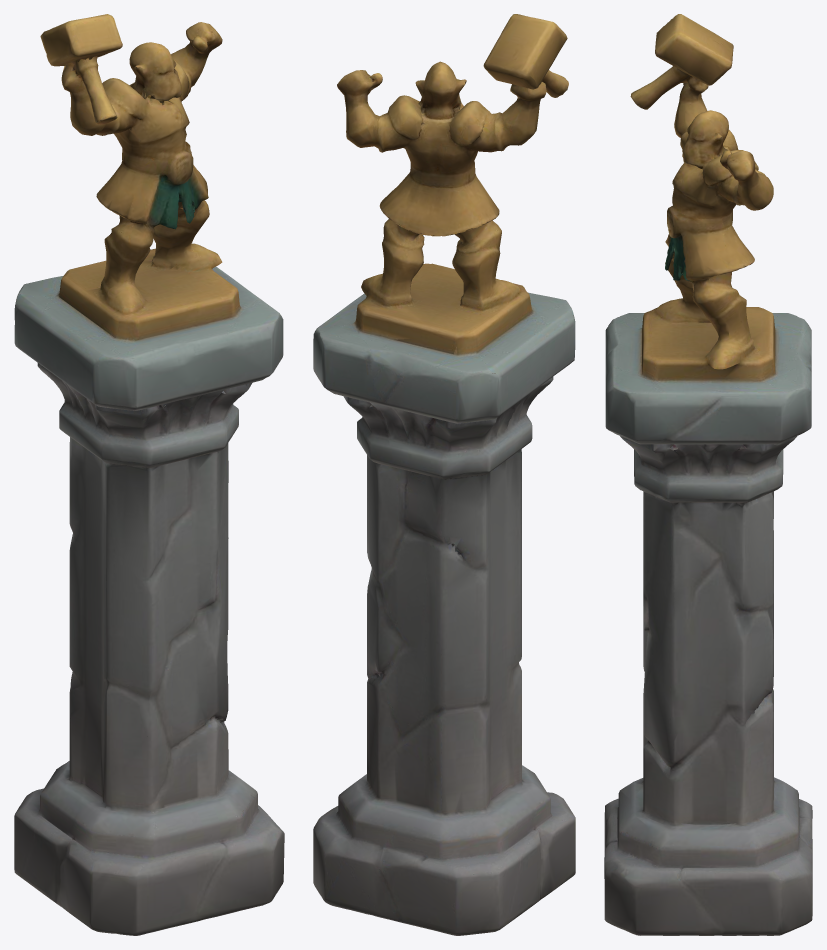
The model's file is artisansColumn.glb.
3 renders of one model, left to right at view 1: azimuth 30°, elevation 25°; view 2: azimuth 150°, elevation 25°; view 3: azimuth 270°, elevation 25°, orthographic. The views are drawn at different scales.
Visible parts, largest first — view 1: RETOPO; view 2: RETOPO; view 3: RETOPO.
Boxes of the visible parts, box(x1,y1,x2,y2) form: RETOPO: box(14, 14, 284, 935); RETOPO: box(313, 14, 575, 935); RETOPO: box(604, 14, 812, 935).
Bounding box in the file's own units: 0.2302 × 1 × 0.2256.
Materials: 1 (1 with a texture image).
